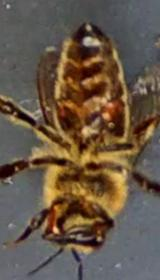varroa_mite: (97, 92, 128, 128), (53, 96, 68, 122)
